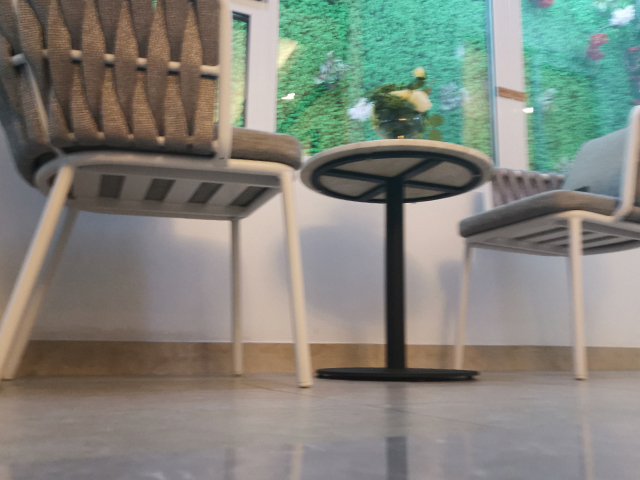stool: (1, 1, 317, 391), (453, 105, 640, 383)
table: (298, 137, 496, 385)
